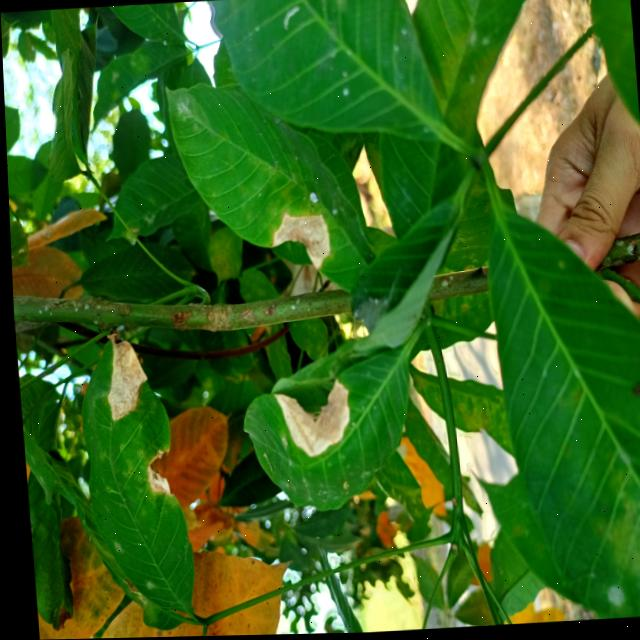Leaf-Blight: (269, 378, 350, 459), (99, 331, 147, 420), (266, 210, 330, 270), (141, 462, 164, 496)
